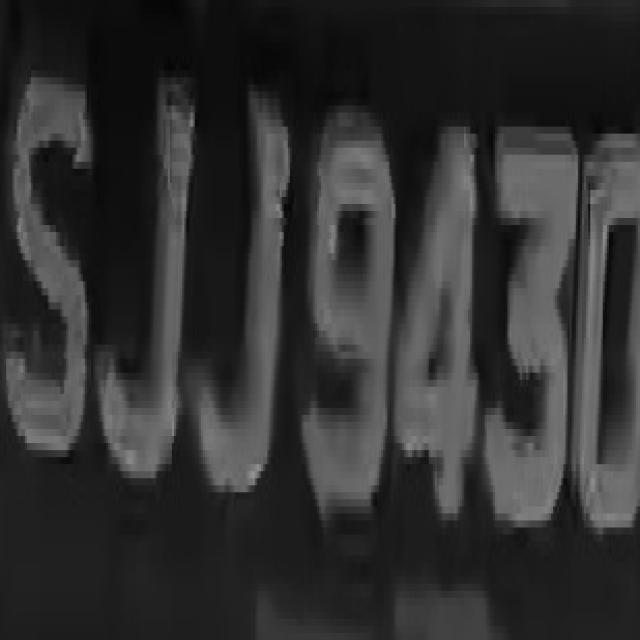3: (482, 84, 578, 542)
4: (387, 78, 489, 542)
9: (300, 98, 398, 520)
J: (195, 56, 296, 549), (99, 78, 197, 520)
S: (8, 7, 93, 471)
